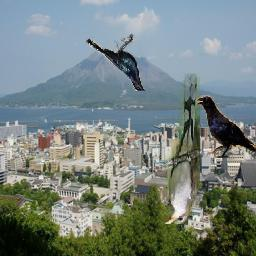Crow: (196, 96, 256, 159), (87, 35, 146, 92)
Cuckoo: (164, 74, 200, 225)
